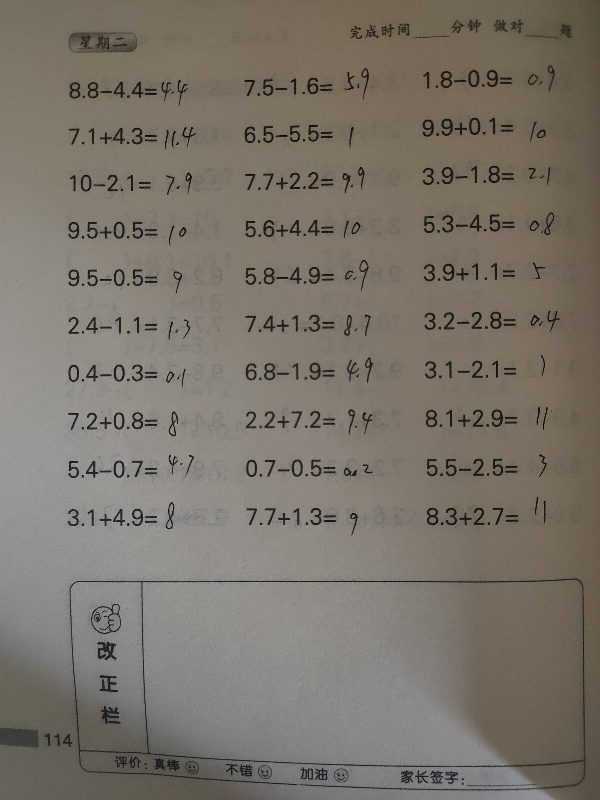equation: (235, 352, 389, 399), (413, 59, 565, 104), (413, 204, 564, 248), (52, 397, 196, 443), (420, 399, 567, 444), (413, 345, 552, 389), (417, 449, 568, 489), (419, 253, 559, 296), (227, 68, 380, 107), (242, 504, 405, 539), (228, 117, 373, 156), (239, 256, 380, 296), (416, 109, 555, 149), (63, 167, 208, 205), (63, 121, 204, 159), (421, 496, 551, 537), (60, 73, 200, 111), (60, 449, 215, 483), (236, 167, 381, 203), (236, 213, 388, 247), (417, 307, 573, 339), (239, 312, 380, 347), (56, 309, 197, 344), (236, 403, 379, 436), (64, 263, 195, 297), (416, 163, 563, 192), (64, 499, 179, 534), (63, 216, 190, 246), (63, 359, 189, 388), (242, 455, 377, 481)
